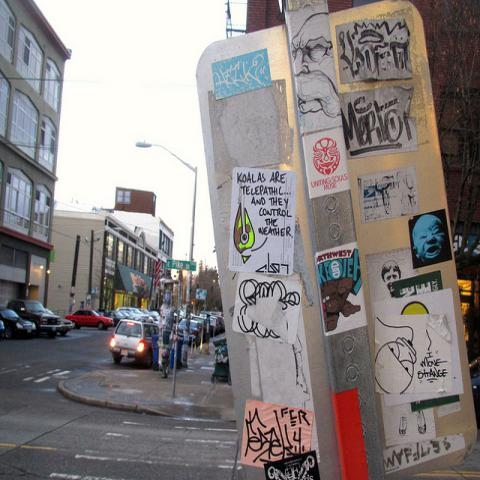car: (110, 318, 158, 368), (0, 307, 38, 339), (65, 308, 114, 329), (46, 308, 75, 336), (177, 318, 203, 346), (105, 310, 137, 326), (122, 310, 142, 322), (192, 315, 205, 327), (129, 306, 144, 314), (140, 314, 153, 322)
truck: (8, 296, 62, 338)
